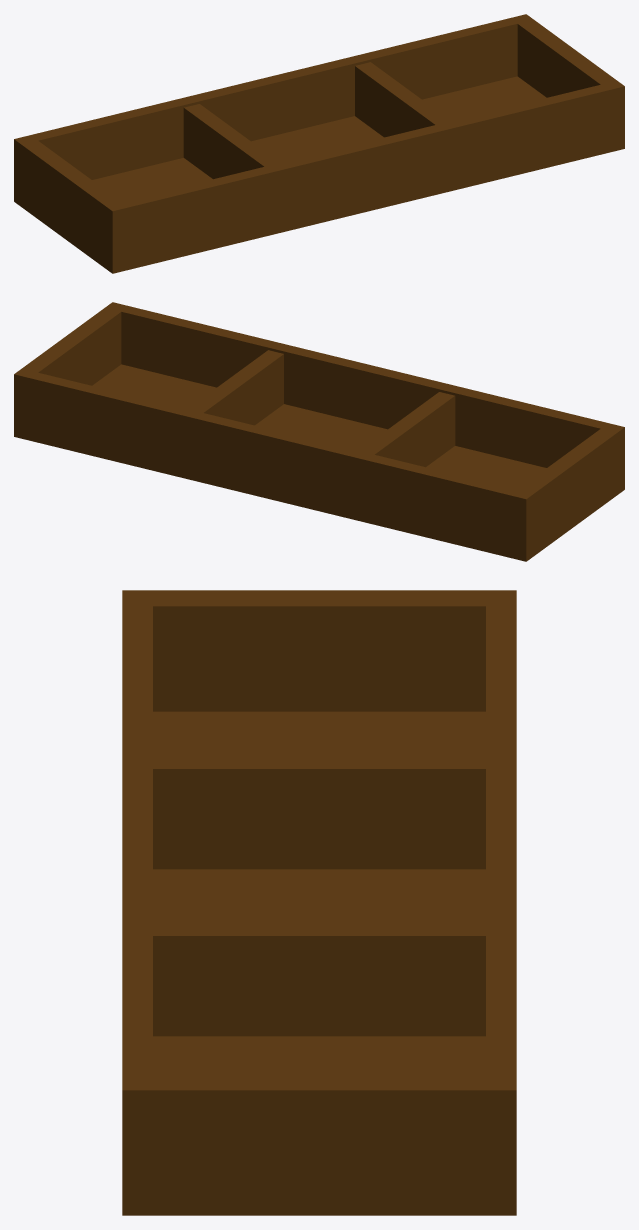
File: PortaNumeri3POSTI.fbx
3 views of the same model, one above another, from view 1: azimuth 30°, elevation 25°; view 2: azimuth 150°, elevation 25°; view 3: azimuth 270°, elevation 25° (orthographic). The views are drawn at different scales.
Visible parts, largest first — view 1: PortaNumeri.002; view 2: PortaNumeri.002; view 3: PortaNumeri.002.
Boxes of the visible parts, <box> form: PortaNumeri.002: <box>14,14,624,273</box>; PortaNumeri.002: <box>14,302,624,561</box>; PortaNumeri.002: <box>122,590,516,1215</box>.
Bounding box in the file's own units: 60 × 7 × 20.
